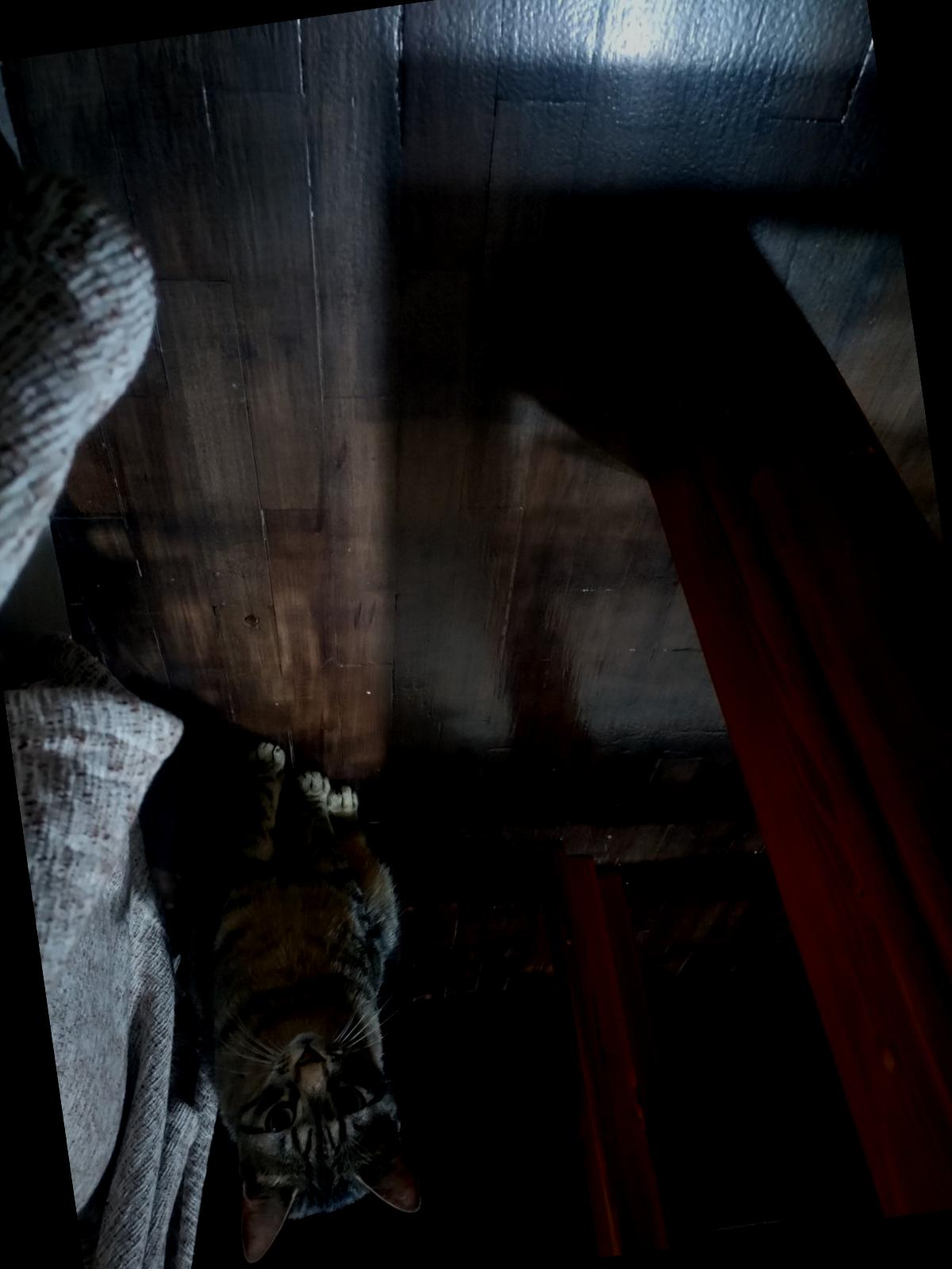macka: (135, 720, 448, 1269)
